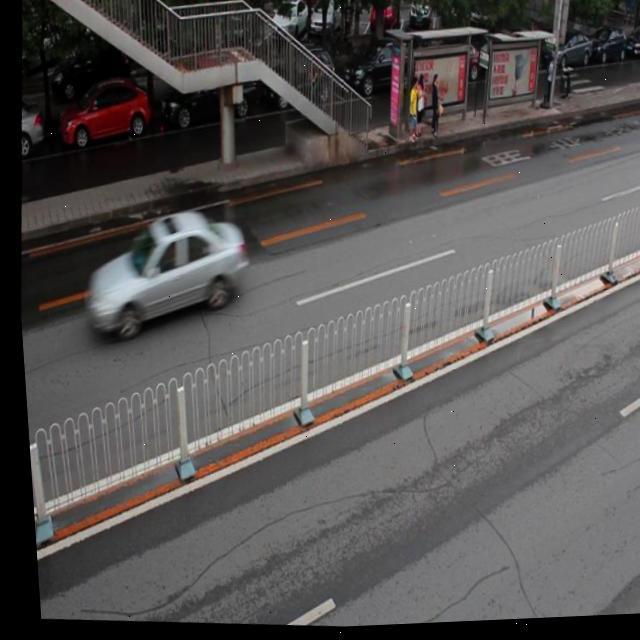car: (71, 204, 252, 350), (52, 75, 152, 152), (155, 58, 257, 131), (336, 37, 420, 105), (260, 48, 336, 117), (15, 92, 45, 162)
